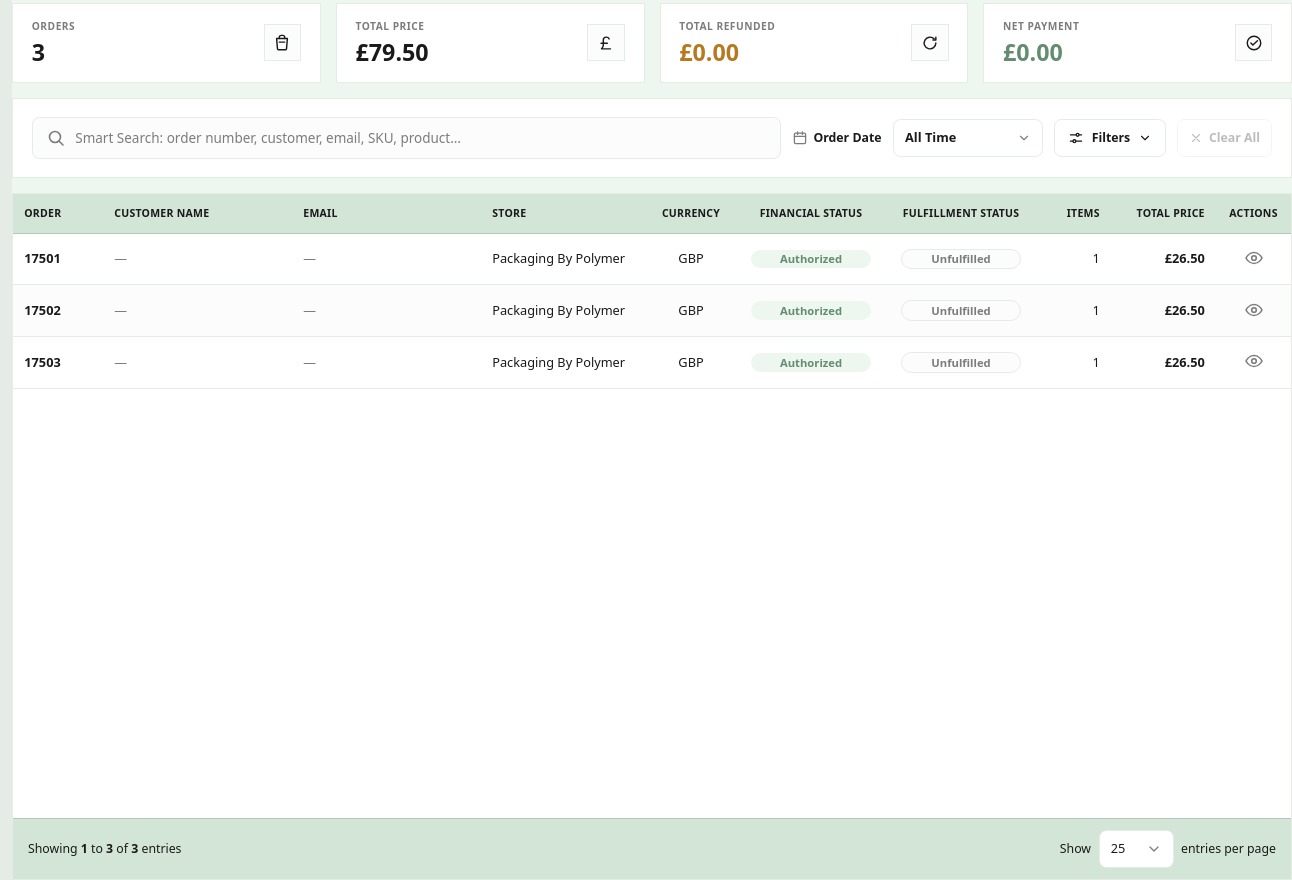
an order’s details page › shows the order’s money, customer, status and store in cards on the Overview
This screenshot has width=1292, height=880.
Expected: the text "17501" is shown, [24,249,61,267]
Click the button named "View order 17501": (1254,258) [1240,245,1267,271]
(page scrolled)
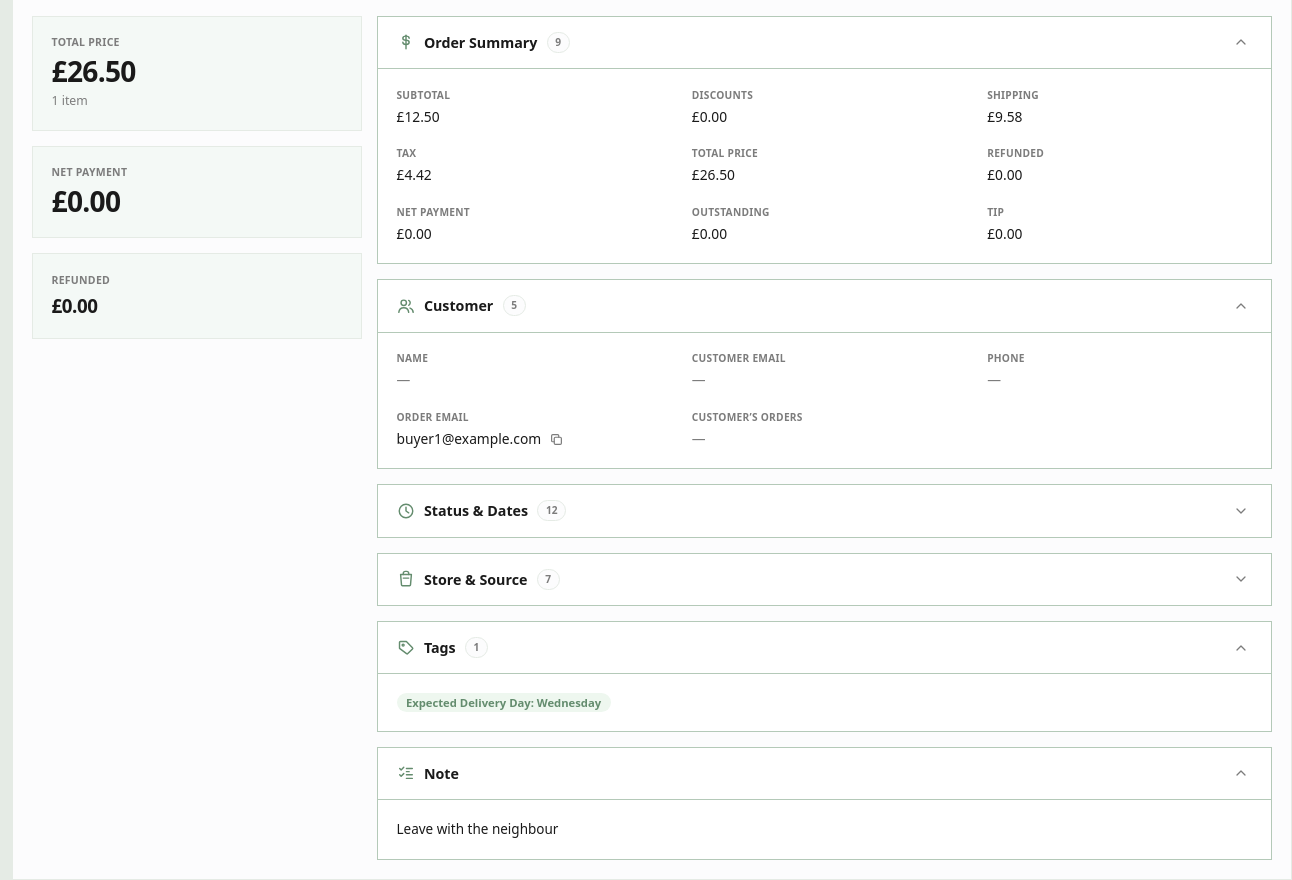
Expected: the heading "Order Summary" is shown, [424,32,537,53]
Expected: the text "£12.50" is shown, [396,107,440,126]
Expected: the text "£9.58" is shown, [987,107,1022,126]
